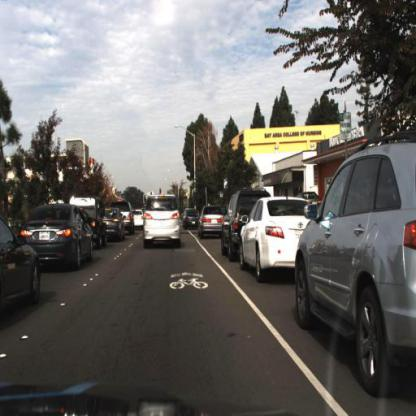car: (292, 132, 416, 399), (239, 190, 298, 293), (37, 197, 99, 283), (1, 205, 43, 312), (141, 184, 184, 252), (218, 189, 241, 266), (90, 186, 108, 256), (198, 200, 225, 243), (101, 202, 125, 248), (183, 203, 200, 232), (124, 202, 136, 240), (132, 208, 145, 232)
